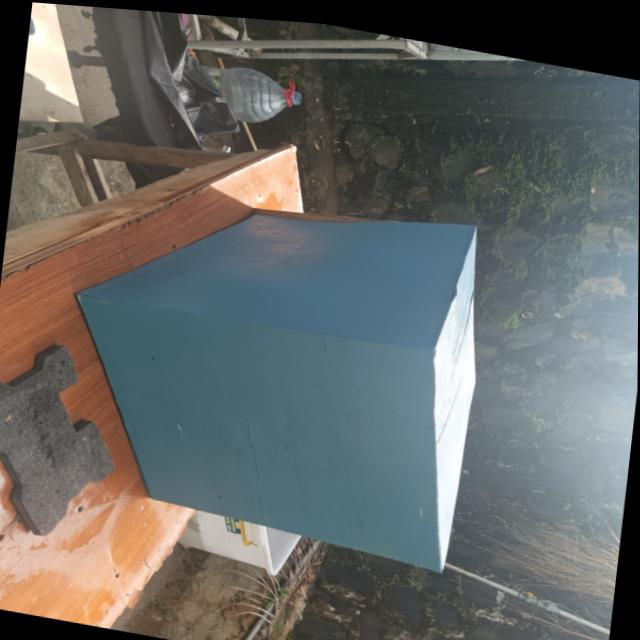blue_box: (48, 146, 501, 566)
